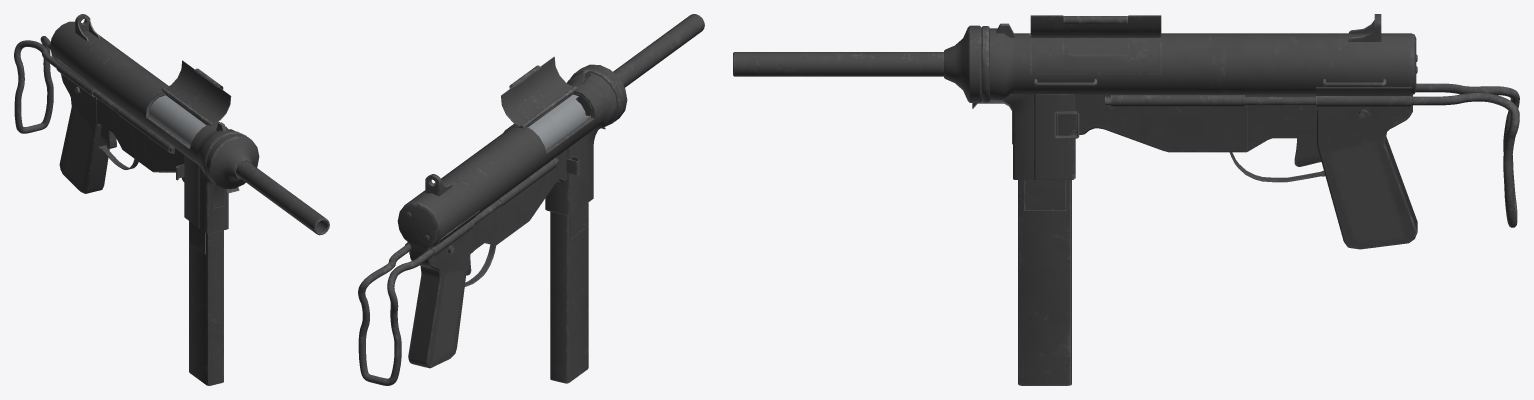
The model's file is weapon_smg.glb.
3 renders of one model, left to right at view 1: azimuth 30°, elevation 25°; view 2: azimuth 150°, elevation 25°; view 3: azimuth 270°, elevation 25°, orthographic. The views are drawn at different scales.
Parts seen in each view (by area): view 1: Body, Magazine, EjectorLid, Stock, Bolt; view 2: Body, Magazine, Stock, EjectorLid, Bolt; view 3: Body, Magazine, Stock, EjectorLid.
Boxes of the visible parts, x1,y1,x2,y2 form: Body: (50,14,329,235); Magazine: (189,221,223,385); EjectorLid: (162,60,231,125); Stock: (14,36,174,153); Bolt: (149,95,206,146); Body: (397,14,704,368); Magazine: (550,202,588,383); Stock: (358,157,558,385); EjectorLid: (501,56,577,128); Bolt: (528,94,590,150); Body: (733,14,1417,249); Magazine: (1018,180,1071,385); Stock: (1104,83,1519,227); EjectorLid: (1029,15,1161,37).
Size of the model in its own units: 0.0635 by 0.334 by 0.6271.
2 materials, 2 textured.
